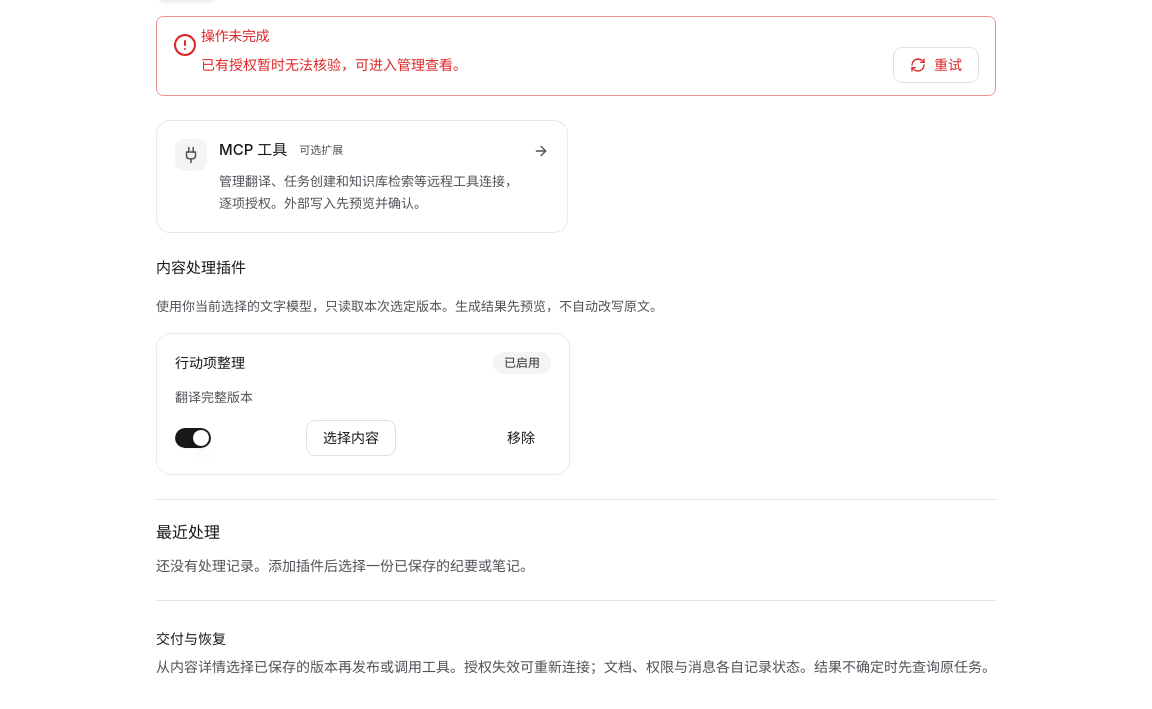
Test case: persists the exact diagram owner/source request before POST without an internal translation form
The image size is (1152, 709).
(page scrolled)
Click the button "选择内容" at (351, 438), box [306,420,396,456]
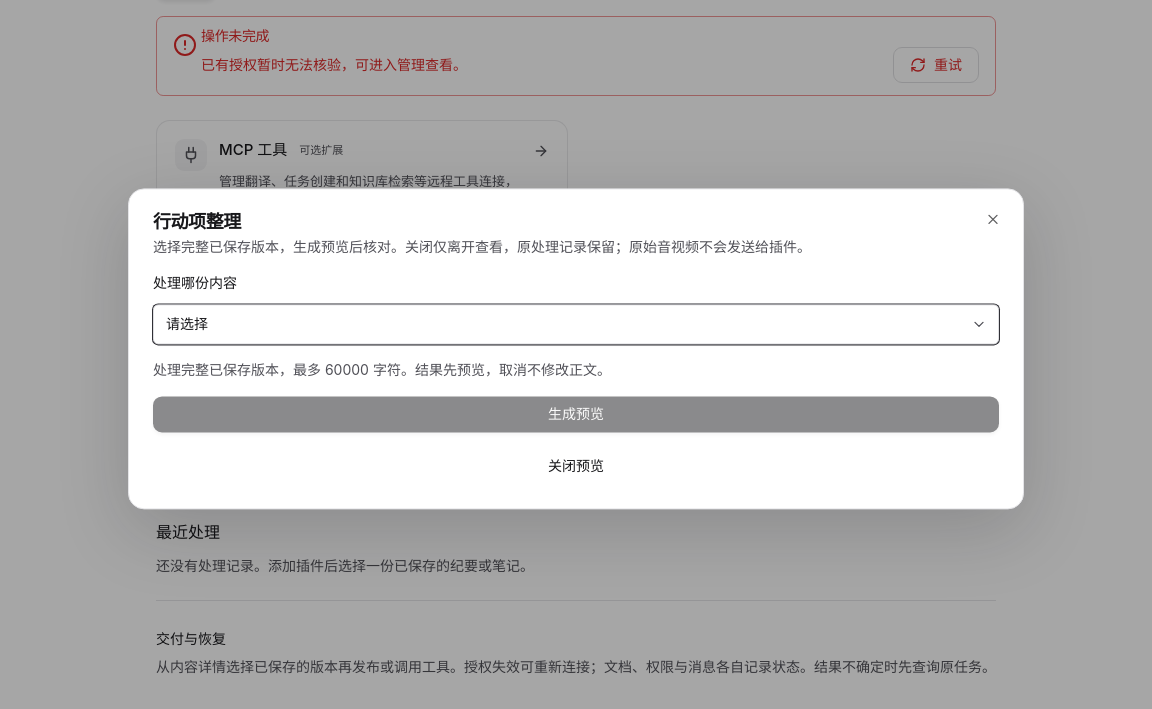
Select "原始笔记" in the dropdown labelled "处理哪份内容" at (576, 325), box [153,305,999,345]
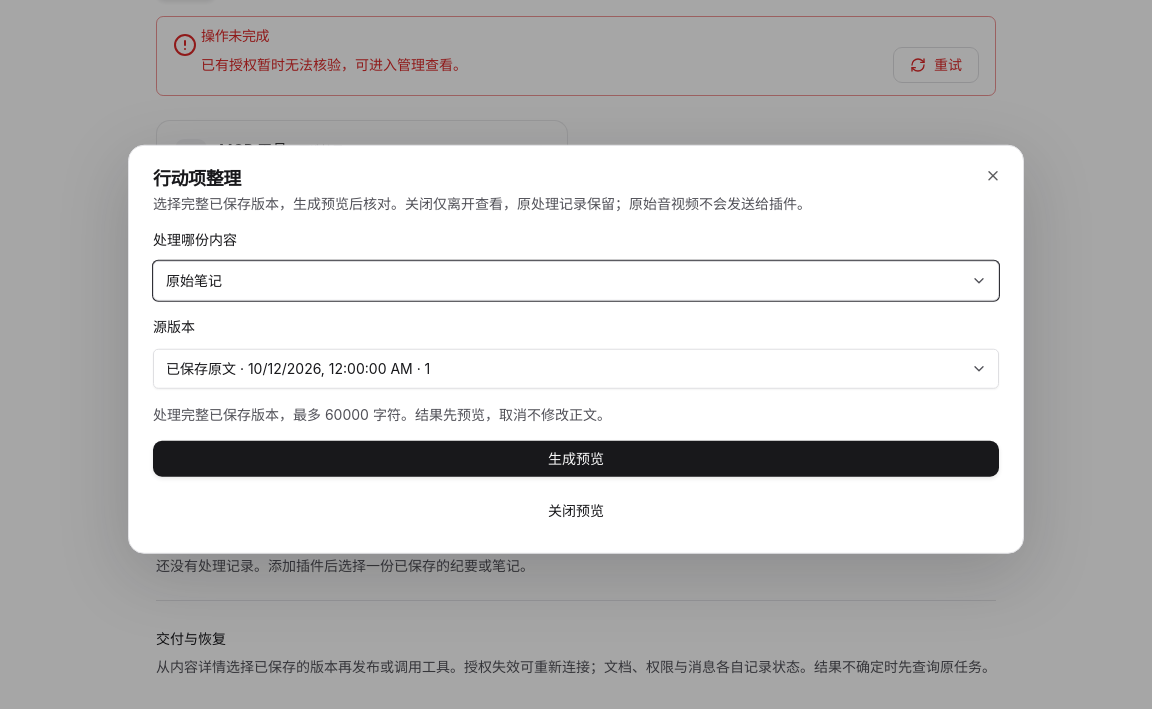
Now the button "生成预览" is enabled
Click the button "生成预览" at (576, 458), box [153,440,999,476]
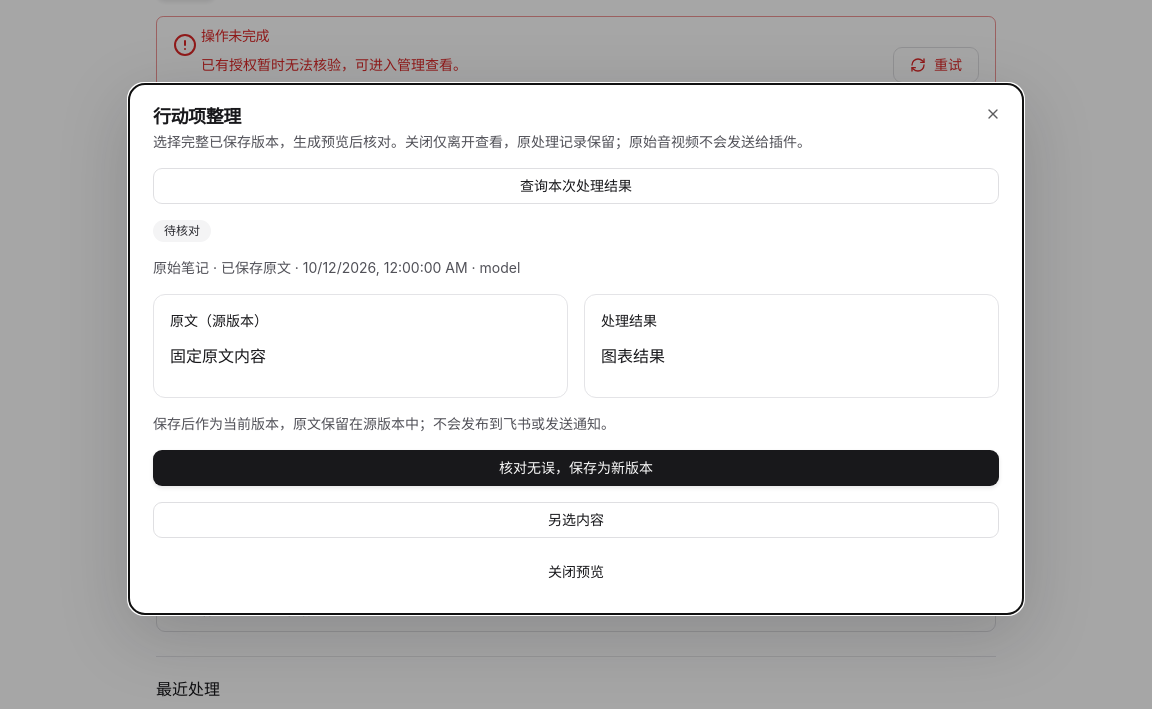
Now the text "图表结果" is shown, box [601,346,665,366]
Now the text "保存后作为当前版本，原文保留在源版本中；不会发布到飞书或发送通知。" is shown, box [153,415,615,432]
